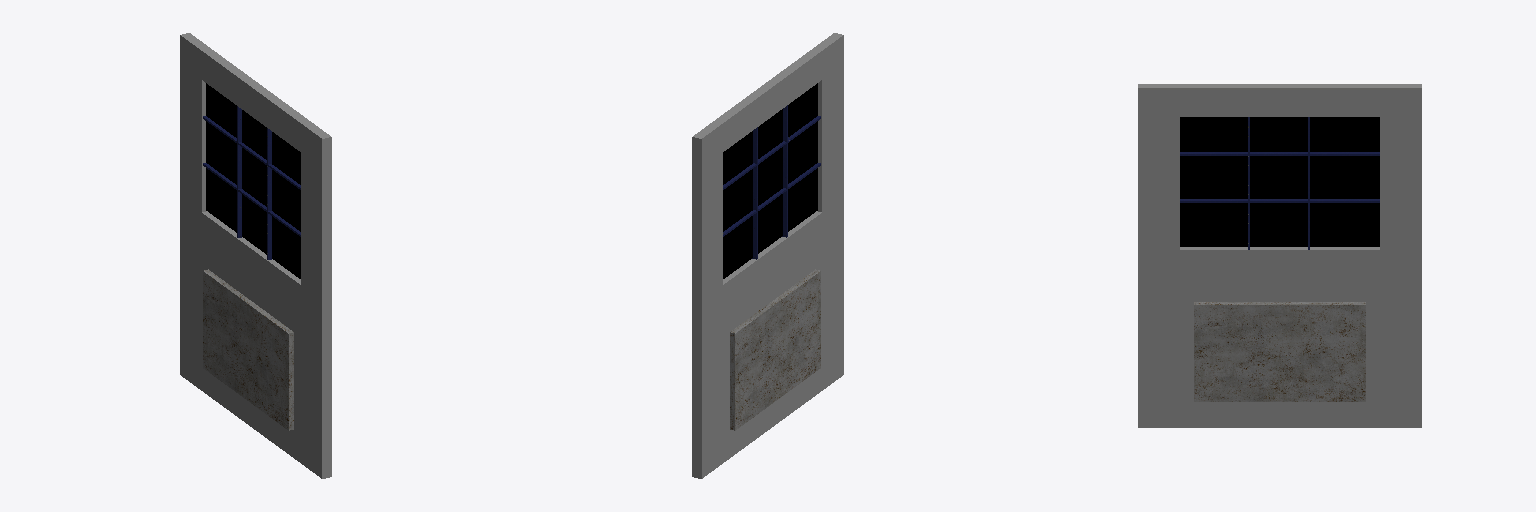
3 views of the same model, side by side, from view 1: azimuth 30°, elevation 25°; view 2: azimuth 150°, elevation 25°; view 3: azimuth 270°, elevation 25° (orthographic).
Visible parts, largest first — view 1: Box001, Box016, Box013, Box005, Box004, Box003, Box019, Box009; view 2: Box001, Box016, Box013, Box003, Box005, Box004, Box009, Box019; view 3: Box001, Box016, Box013, Box005, Box004, Box003, Box018, Box020.
Part boxes in pixels (bbox=[...]): Box001: bbox=[180, 197, 331, 478]; Box016: bbox=[206, 83, 300, 278]; Box013: bbox=[203, 269, 293, 430]; Box005: bbox=[180, 33, 331, 167]; Box004: bbox=[301, 153, 331, 401]; Box003: bbox=[180, 64, 205, 312]; Box019: bbox=[267, 128, 271, 259]; Box009: bbox=[237, 106, 241, 237]; Box001: bbox=[692, 198, 843, 478]; Box016: bbox=[723, 83, 817, 278]; Box013: bbox=[730, 269, 820, 430]; Box003: bbox=[692, 153, 722, 401]; Box005: bbox=[692, 33, 843, 167]; Box004: bbox=[818, 64, 843, 298]; Box009: bbox=[752, 127, 757, 259]; Box019: bbox=[782, 105, 787, 237]; Box001: bbox=[1138, 247, 1421, 427]; Box016: bbox=[1180, 117, 1379, 246]; Box013: bbox=[1194, 302, 1365, 401]; Box005: bbox=[1138, 84, 1421, 116]; Box004: bbox=[1138, 117, 1179, 348]; Box003: bbox=[1380, 117, 1421, 348]; Box018: bbox=[1180, 152, 1379, 155]; Box020: bbox=[1180, 199, 1379, 202].
Size of the model in its own units: 5.53 by 87.5 by 66.3.
4 materials, 3 textured.